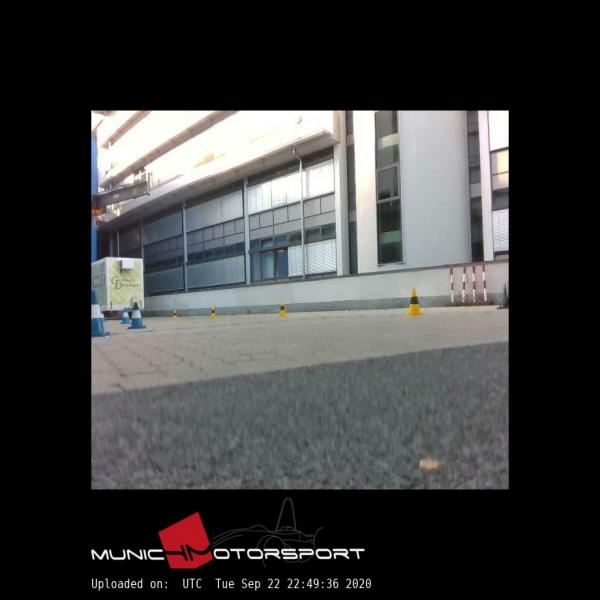blue_cone: (91, 290, 110, 336), (128, 302, 146, 329), (120, 308, 132, 324), (100, 311, 107, 322)
yellow_cone: (406, 288, 424, 316), (277, 301, 288, 317), (210, 307, 218, 319), (172, 309, 178, 320)
